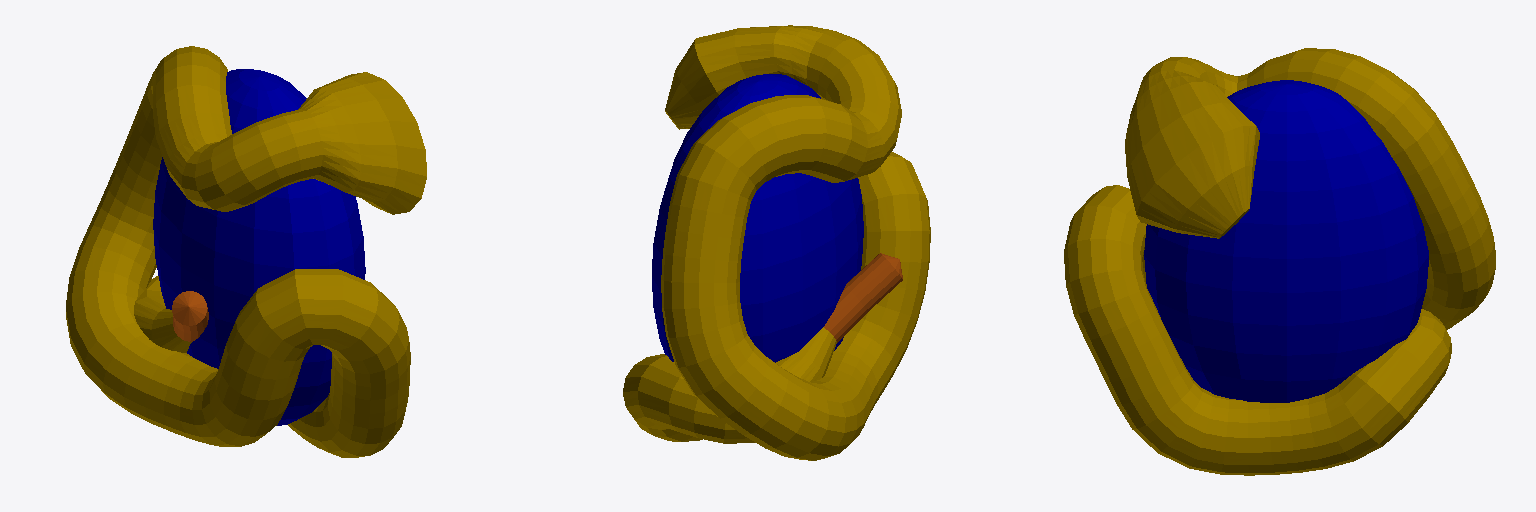
File: warp.obj
3 renders of one model, left to right at view 1: azimuth 30°, elevation 25°; view 2: azimuth 150°, elevation 25°; view 3: azimuth 270°, elevation 25°, orthographic.
Visible parts, largest first — view 1: Snake_Cylinder, Jewel_Sphere; view 2: Snake_Cylinder, Jewel_Sphere; view 3: Snake_Cylinder, Jewel_Sphere.
Boxes of the visible parts, x1=… form: Snake_Cylinder: x1=66, y1=46, x2=426, y2=457; Jewel_Sphere: x1=153, y1=69, x2=365, y2=425; Snake_Cylinder: x1=623, y1=25, x2=930, y2=460; Jewel_Sphere: x1=652, y1=74, x2=863, y2=362; Snake_Cylinder: x1=1064, y1=48, x2=1495, y2=475; Jewel_Sphere: x1=1144, y1=80, x2=1428, y2=402.
Size of the model in its own units: 3.15 by 4.57 by 4.74.